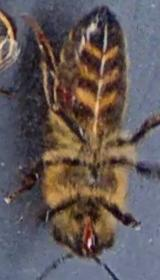varroa_mite: (52, 78, 76, 107)
